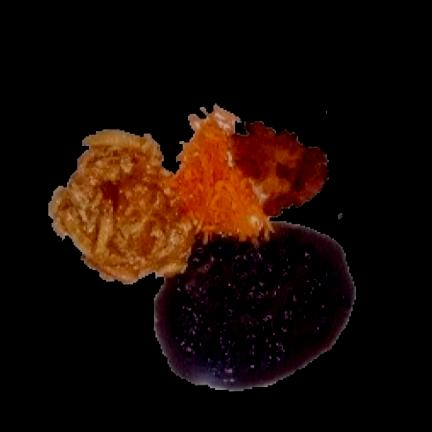beans: (155, 222, 355, 390)
carrot: (169, 109, 272, 243)
chicken: (229, 122, 328, 217)
